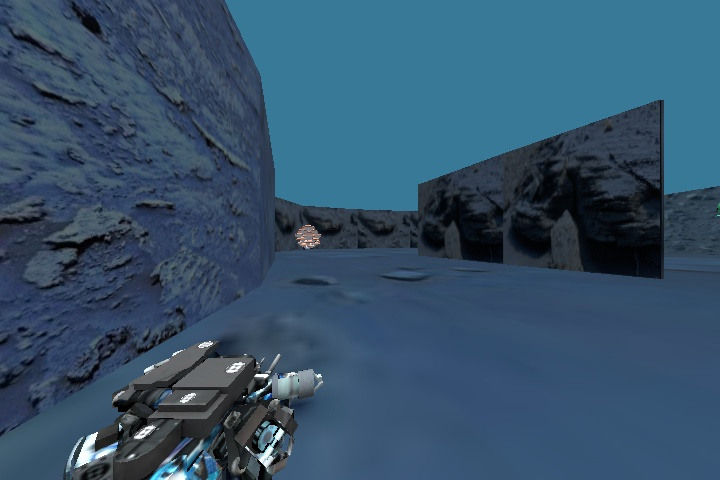mushrooms: (289, 217, 328, 256)
